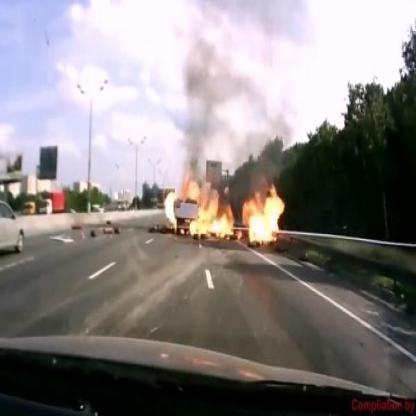fire: (187, 167, 287, 250), (164, 184, 178, 228)
